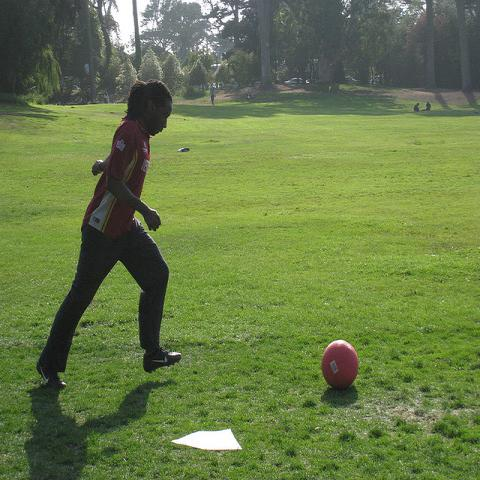car: (368, 73, 384, 87), (223, 80, 239, 90), (285, 77, 303, 84), (306, 79, 310, 83)
